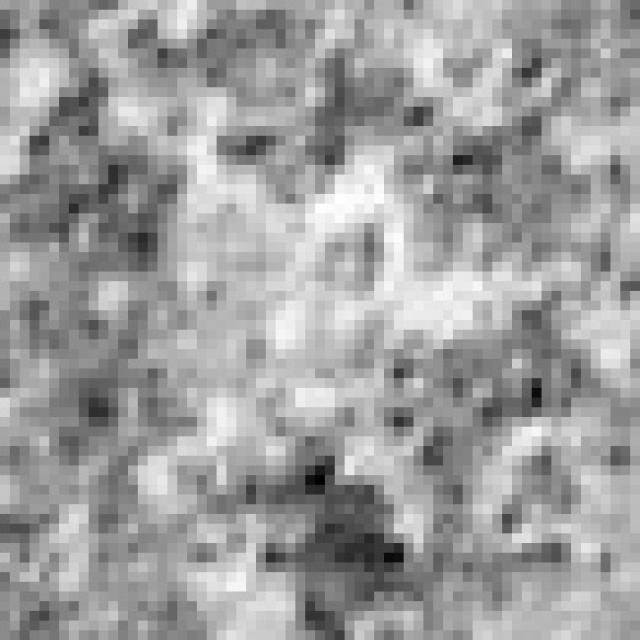inner: (184, 205, 412, 433)
lobe: (148, 14, 444, 211), (378, 300, 610, 511), (4, 286, 205, 503), (3, 71, 195, 284), (248, 434, 426, 640), (397, 116, 599, 279)
outer: (2, 0, 640, 640)
